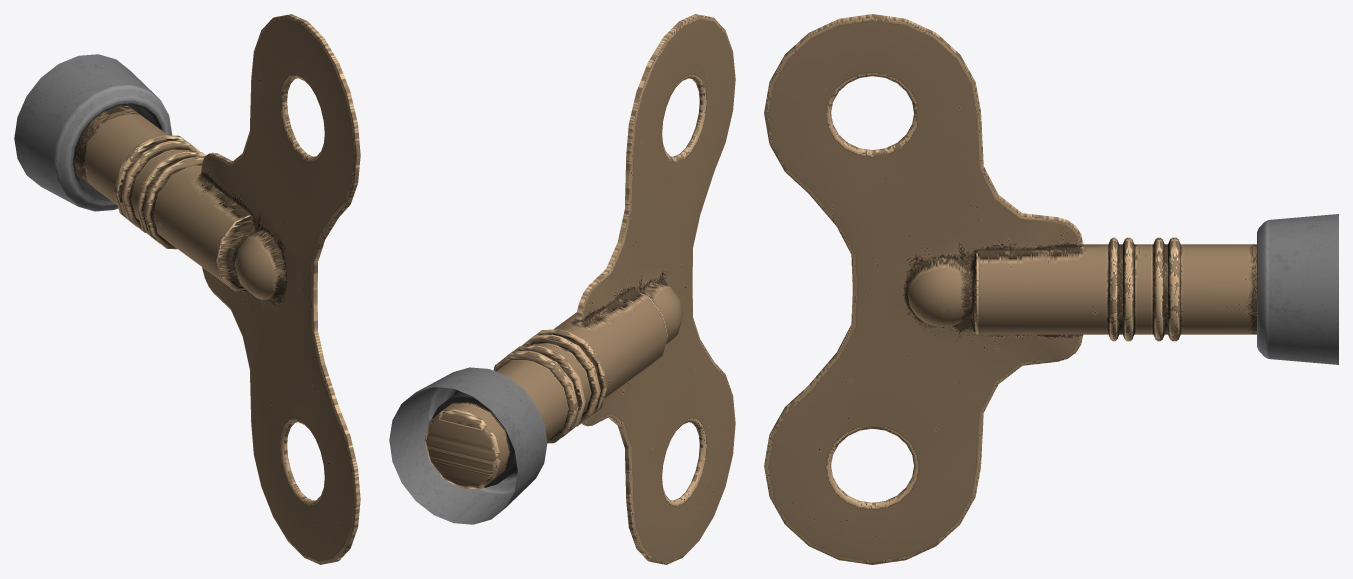
Rendered from scp914devicekey.gltf.
The picture shows the model from 3 angles, left to right: view 1: azimuth 30°, elevation 25°; view 2: azimuth 150°, elevation 25°; view 3: azimuth 270°, elevation 25°; orthographic projection. The views are drawn at different scales.
Visible parts, largest first — view 1: scp914_windkey_new, scp914_windup_new; view 2: scp914_windkey_new, scp914_windup_new; view 3: scp914_windkey_new, scp914_windup_new.
Boxes of the visible parts, left/top/right/bottom form: scp914_windkey_new: left=74, top=14, right=360, bottom=564; scp914_windup_new: left=14, top=54, right=172, bottom=211; scp914_windkey_new: left=424, top=14, right=735, bottom=564; scp914_windup_new: left=389, top=367, right=547, bottom=524; scp914_windkey_new: left=764, top=14, right=1256, bottom=564; scp914_windup_new: left=1257, top=214, right=1338, bottom=364.
Size of the model in its own units: 0.00171 by 0.0068 by 0.00645.
Materials: 1 (1 with a texture image).
